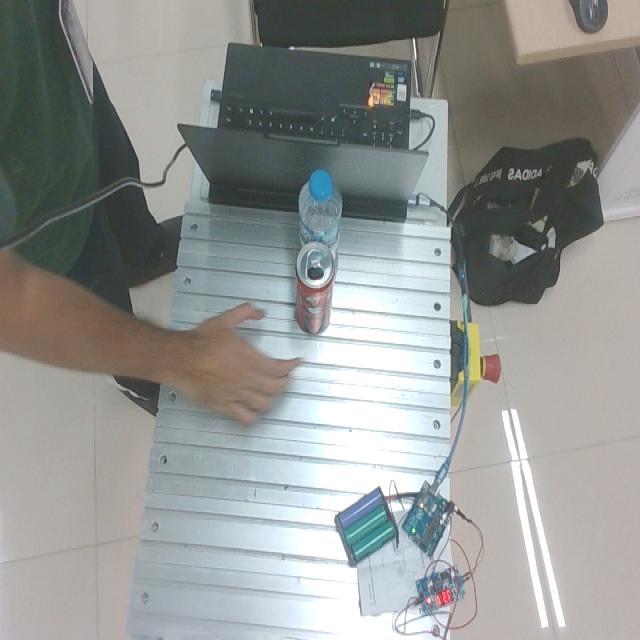coca: (295, 240, 337, 335)
lavie: (299, 168, 344, 265)
